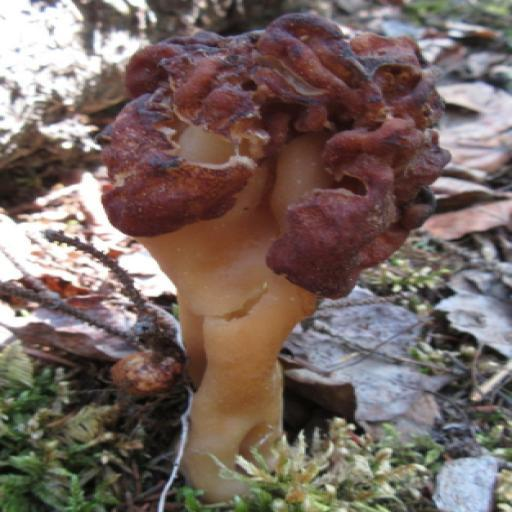mushroom: (74, 0, 512, 510)
